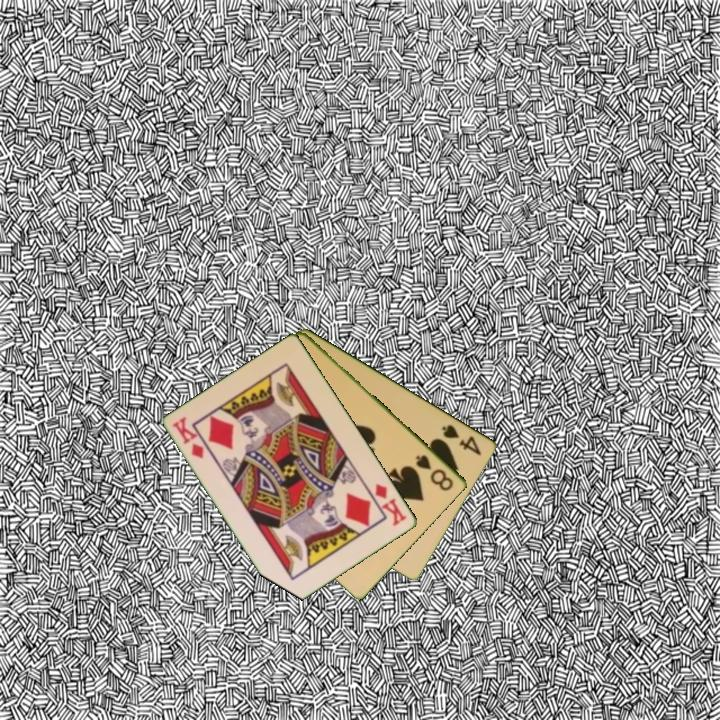4s: (439, 421, 485, 458)
8s: (412, 451, 457, 494)
Kd: (372, 480, 410, 529), (169, 413, 207, 462)
